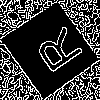R: (25, 24, 85, 81)
